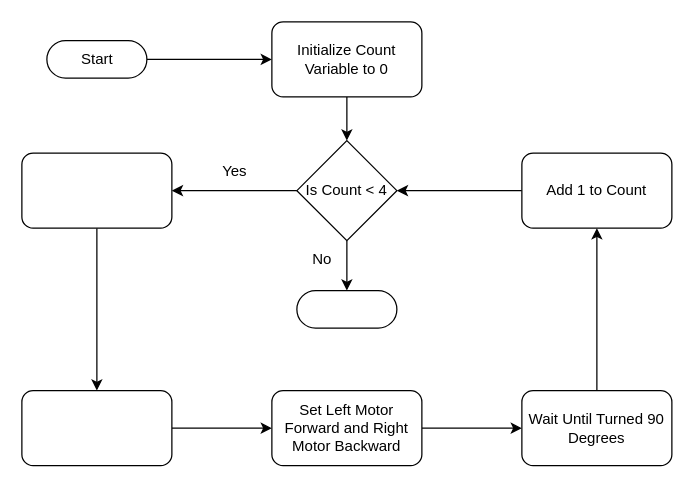
Image size: 694x488. Some labels were removed from this diagram. Here are the shapes that lost their labels. From the top down, the centre of each, then its label:
At (x=96, y=190): "Set Both Motors Forward".
At (x=346, y=308): "End".
At (x=96, y=427): "Wait Until Object Seen".
